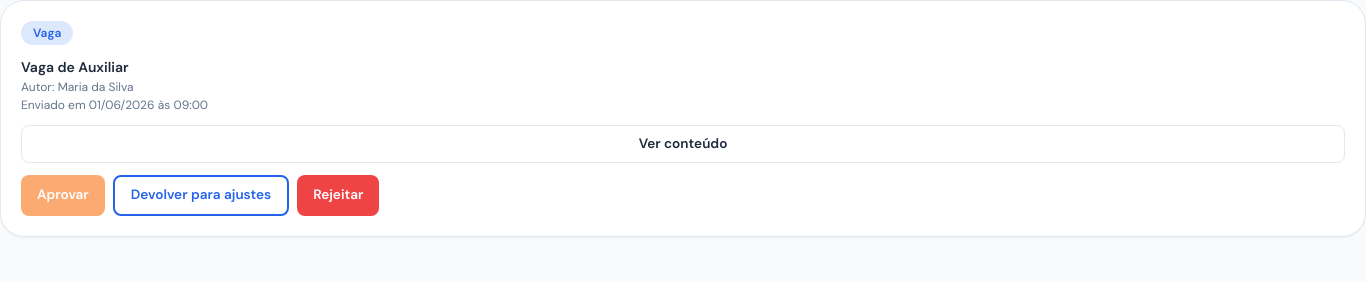
it: ModerationQueue › USP-066/E-006: carga do conteúdo falha ⇒ Aprovar permanece desabilitado; devolver/rejeitar seguem habilitados
Step 1. Click the button "Ver conteúdo" → click(683, 144), box [21,125,1345,163]
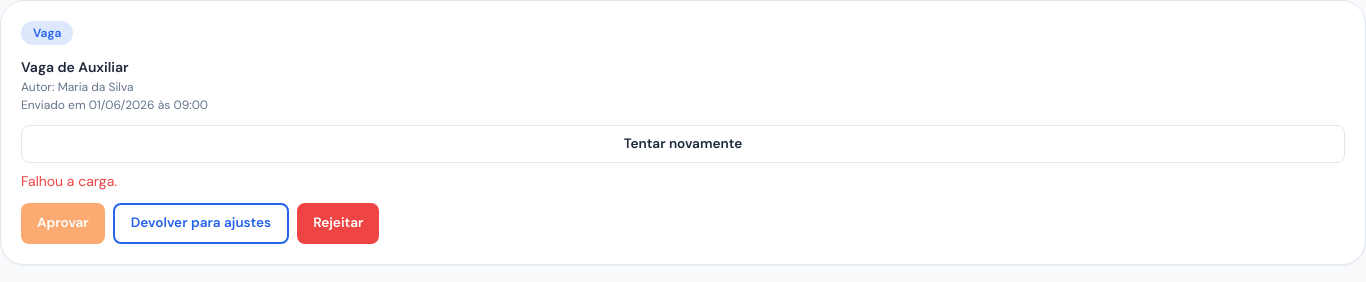
Expected: the button "Aprovar" is disabled, [21,203,105,244]
Result: the message reads "Falhou a carga." at [21,172,117,190]
